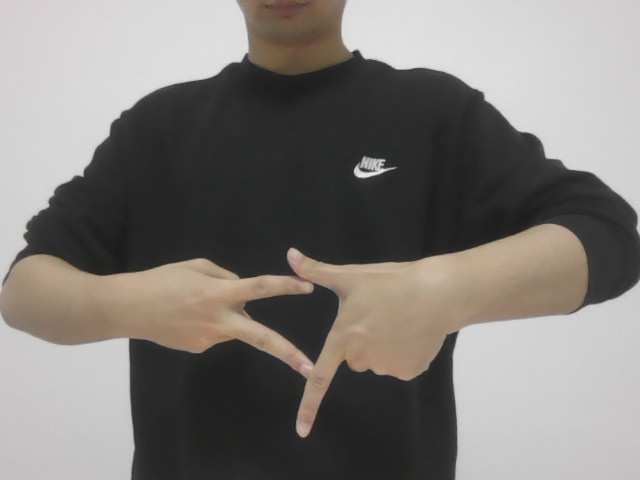introduce: (131, 237, 439, 438)
